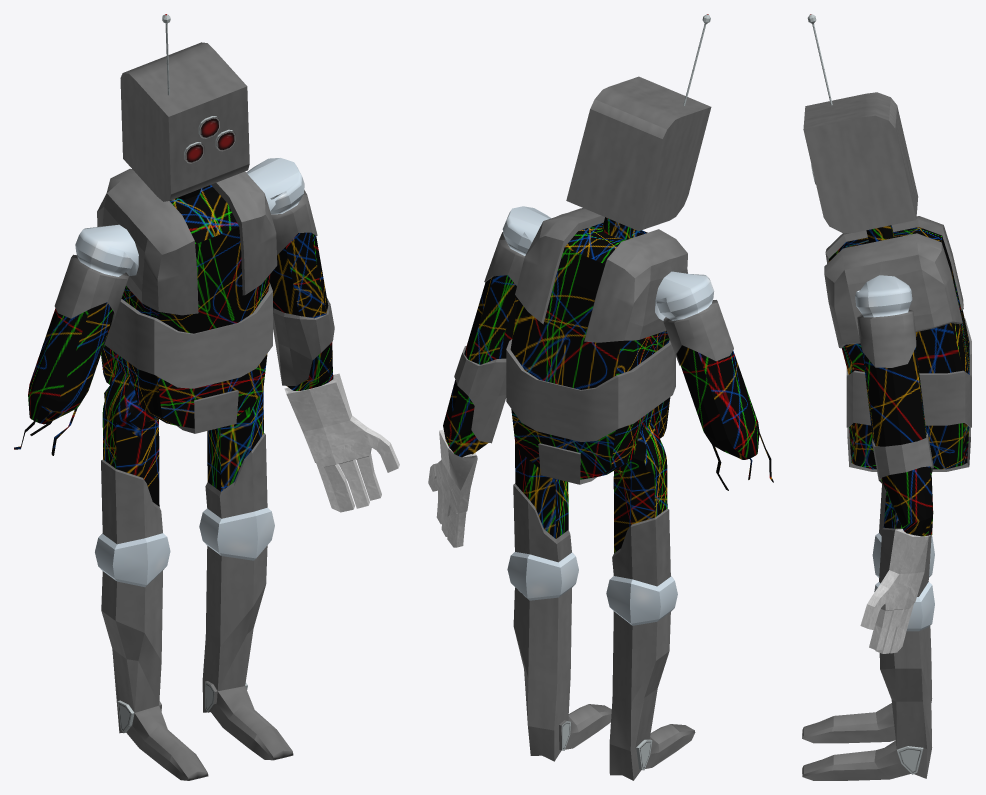
File: RobotIdle1.obj
3 renders of one model, left to right at view 1: azimuth 30°, elevation 25°; view 2: azimuth 150°, elevation 25°; view 3: azimuth 270°, elevation 25°, orthographic. The views are drawn at different scales.
Parts seen in each view (by area): view 1: Robot; view 2: Robot; view 3: Robot.
Part boxes in pixels (x1,y1,x2,y2): Robot: (14, 14, 399, 780); Robot: (428, 14, 773, 780); Robot: (802, 14, 971, 780).
Bounding box in the file's own units: 7.91 × 15.51 × 3.36.
